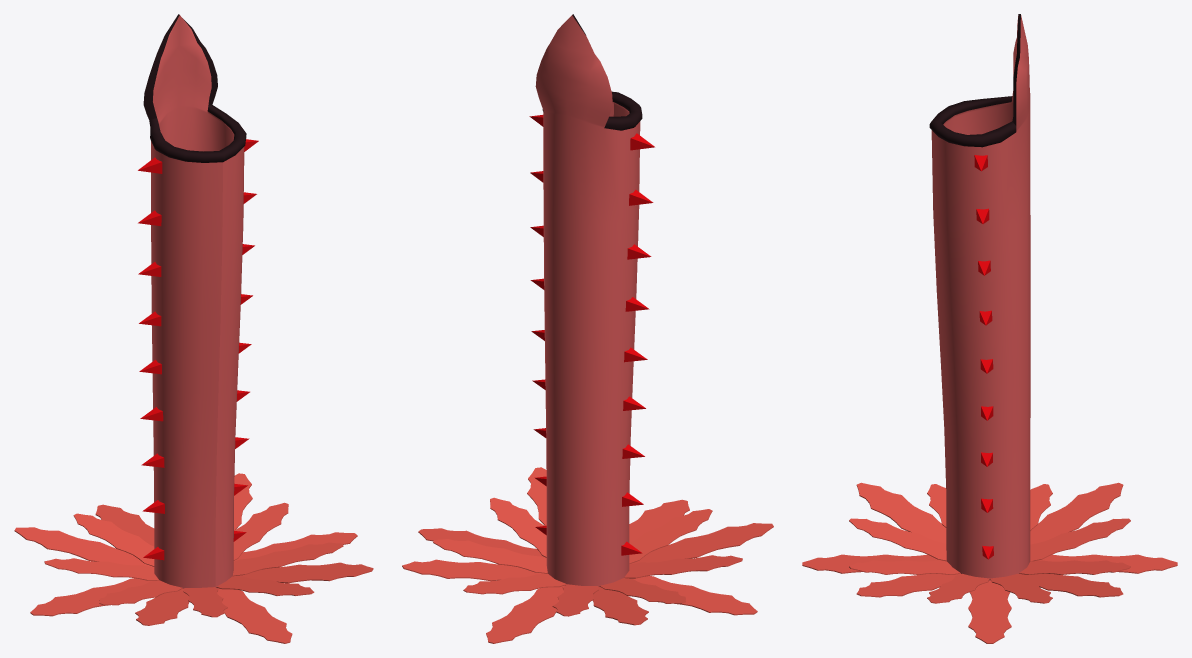
The model's file is pitchernew.fbx.
3 renders of one model, left to right at view 1: azimuth 30°, elevation 25°; view 2: azimuth 150°, elevation 25°; view 3: azimuth 270°, elevation 25°, orthographic. The views are drawn at different scales.
Parts seen in each view (by area): view 1: Pitcher, Leaves, Spikes; view 2: Pitcher, Leaves, Spikes; view 3: Pitcher, Leaves, Spikes.
Boxes of the visible parts, bbox=[...] form: Pitcher: bbox=[143, 14, 246, 588]; Leaves: bbox=[14, 473, 373, 643]; Spikes: bbox=[138, 139, 258, 560]; Pitcher: bbox=[535, 14, 642, 586]; Leaves: bbox=[402, 467, 773, 643]; Spikes: bbox=[529, 115, 654, 555]; Pitcher: bbox=[929, 14, 1030, 580]; Leaves: bbox=[802, 482, 1177, 643]; Spikes: bbox=[974, 155, 993, 559].
Size of the model in its own units: 934 by 1518 by 934.
